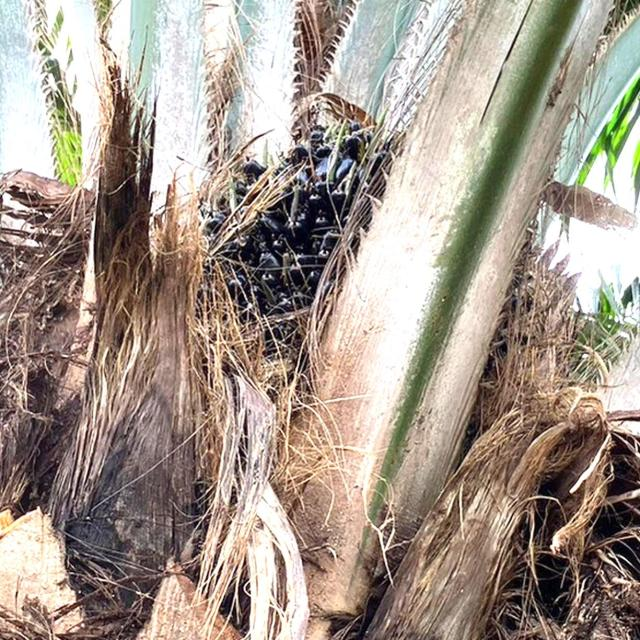unripe: (174, 109, 420, 452)
